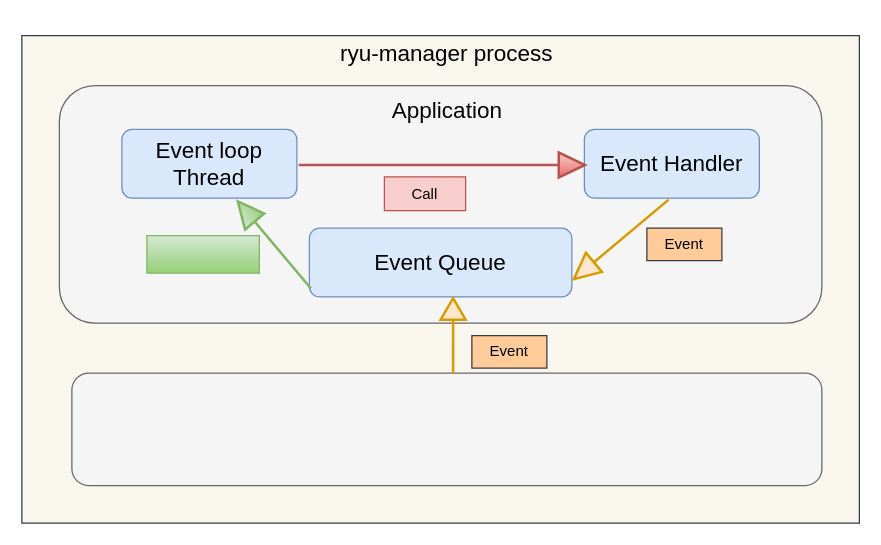
Some shapes in this 881 by 545 pixel diagram are drawn without their labels. Each missing label, with the box of its shape:
Data path Thread: (71, 372, 822, 486)
Retrieve an event: (146, 234, 259, 273)
